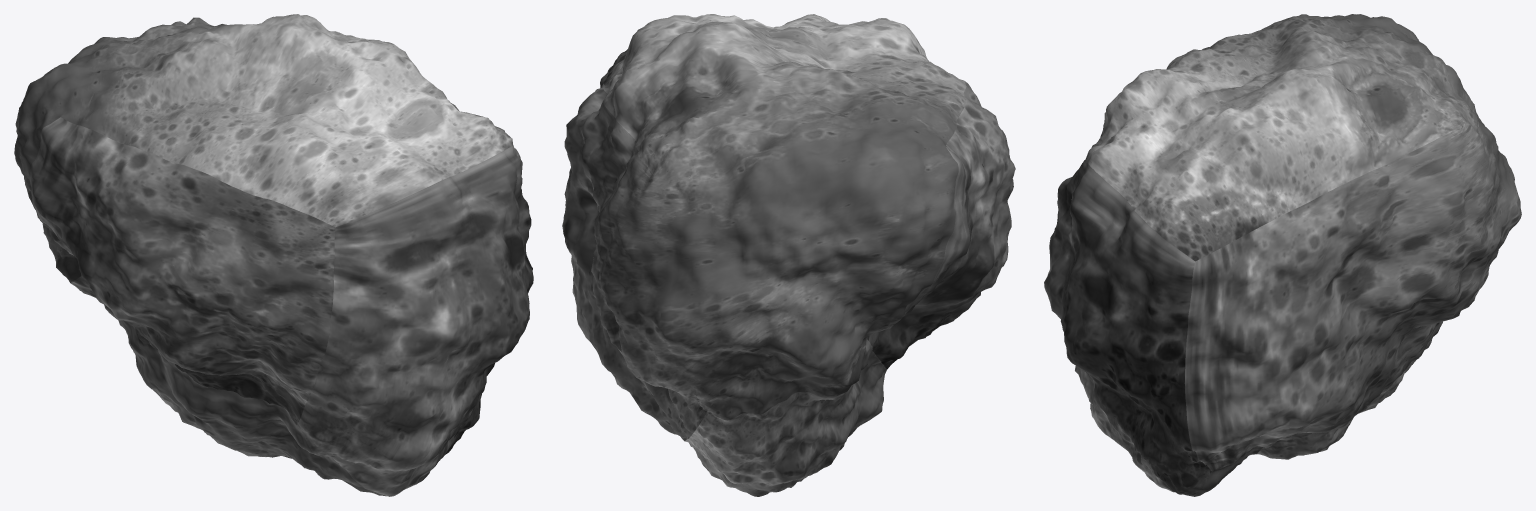
The model's file is Meteoro Juego.glb.
The picture shows the model from 3 angles, left to right: view 1: azimuth 30°, elevation 25°; view 2: azimuth 150°, elevation 25°; view 3: azimuth 270°, elevation 25°; orthographic projection. The views are drawn at different scales.
Visible parts, largest first — view 1: Cube; view 2: Cube; view 3: Cube.
Boxes of the visible parts, box(x1,y1,x2,y2) form: Cube: box(14, 14, 533, 496); Cube: box(562, 14, 1015, 496); Cube: box(1044, 14, 1521, 496).
Bounding box in the file's own units: 1.6 × 1.59 × 1.71.
1 material, 1 textured.
